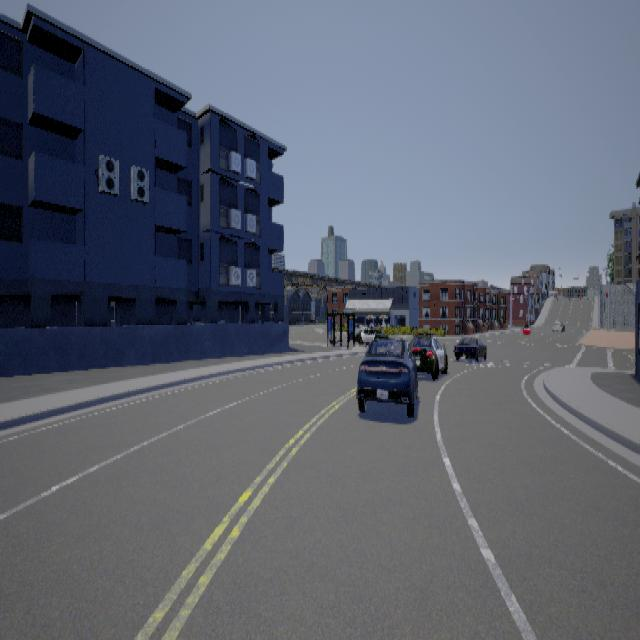vehicle: (354, 333, 417, 416), (403, 327, 449, 379), (452, 335, 486, 361)
